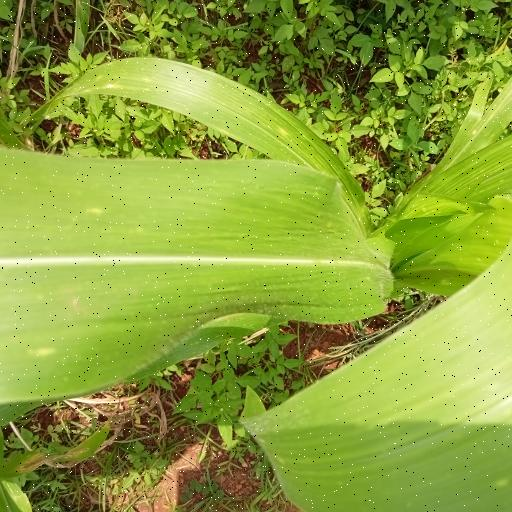Corn_Brown_Spots: (0, 156, 360, 390), (22, 53, 353, 176)
